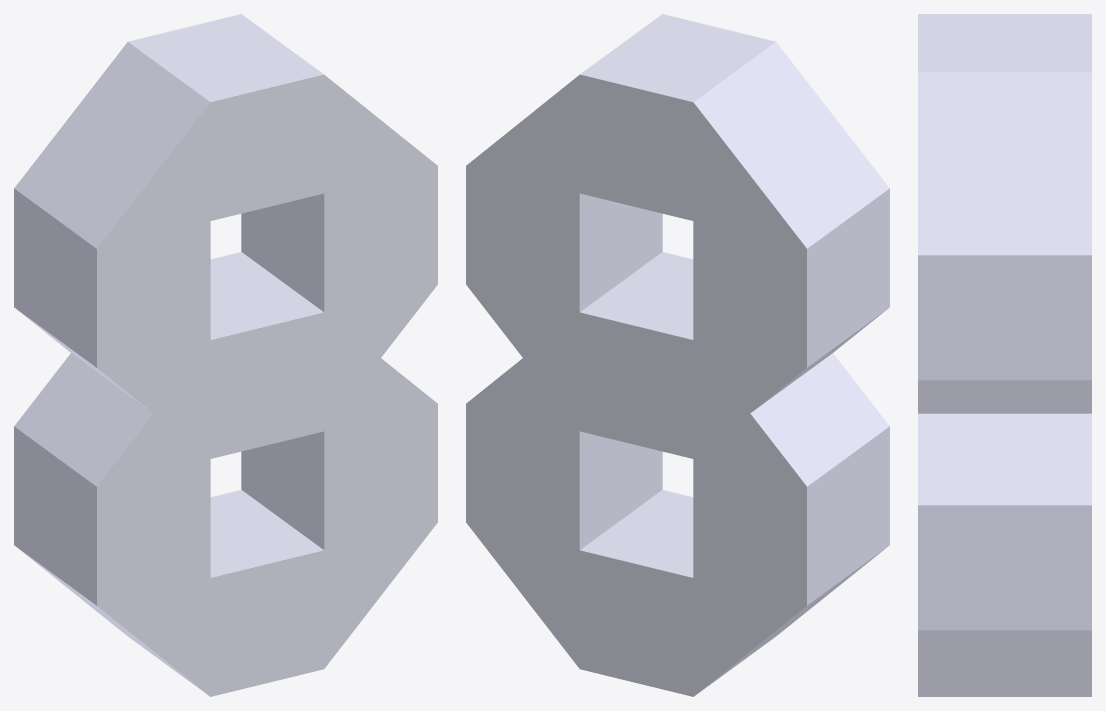
3 views of the same model, side by side, from view 1: azimuth 30°, elevation 25°; view 2: azimuth 150°, elevation 25°; view 3: azimuth 270°, elevation 25° (orthographic). The views are drawn at different scales.
Visible parts, largest first — view 1: 8_DeltaBlock_Grey; view 2: 8_DeltaBlock_Grey; view 3: 8_DeltaBlock_Grey.
Part boxes in pixels (bbox=[...]): 8_DeltaBlock_Grey: bbox=[14, 14, 437, 696]; 8_DeltaBlock_Grey: bbox=[466, 14, 889, 696]; 8_DeltaBlock_Grey: bbox=[918, 14, 1091, 696].
Size of what is drawn, in the model's own units: 0.1071 by 0.1786 by 0.045.
2 materials, 2 textured.
